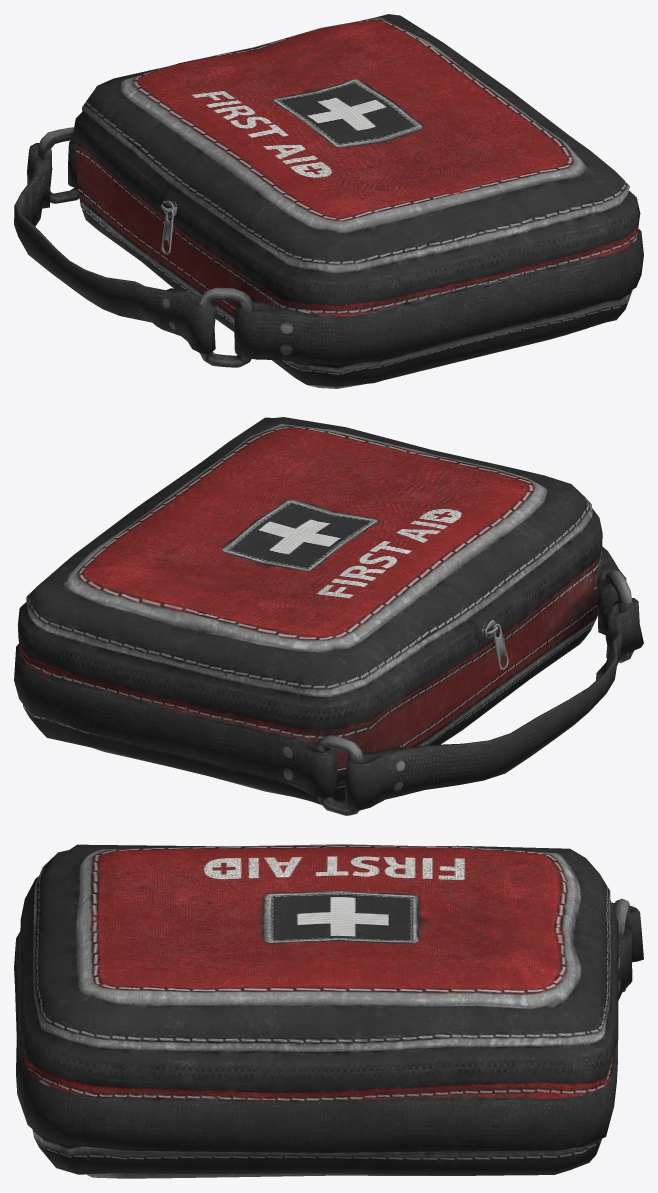
File: first_aid_kit-opt.glb
3 renders of one model, top to bottom at view 1: azimuth 30°, elevation 25°; view 2: azimuth 150°, elevation 25°; view 3: azimuth 270°, elevation 25°, orthographic. The views are drawn at different scales.
Visible parts, largest first — view 1: Object_2; view 2: Object_2; view 3: Object_2.
Boxes of the visible parts, <box> form: Object_2: <box>14,14,643,388</box>; Object_2: <box>14,417,643,815</box>; Object_2: <box>14,844,643,1178</box>.
Size of the model in its own units: 0.3218 by 0.115 by 0.3345.
Materials: 1 (1 with a texture image).
